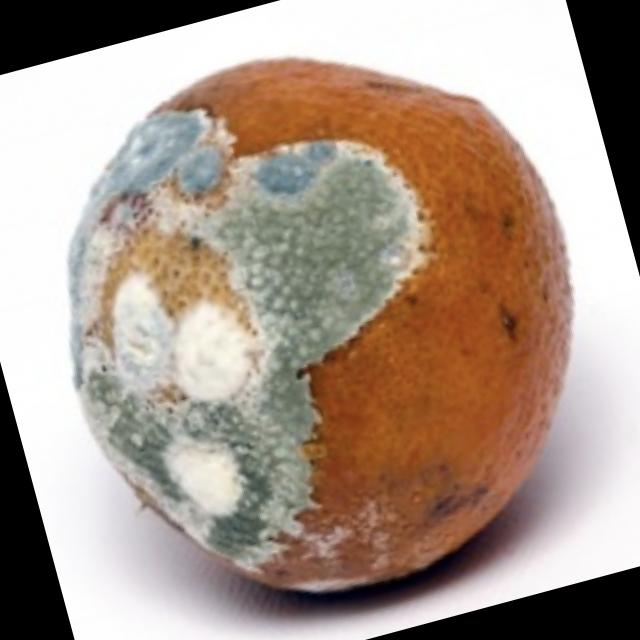rotten-orange: (6, 0, 637, 640)
